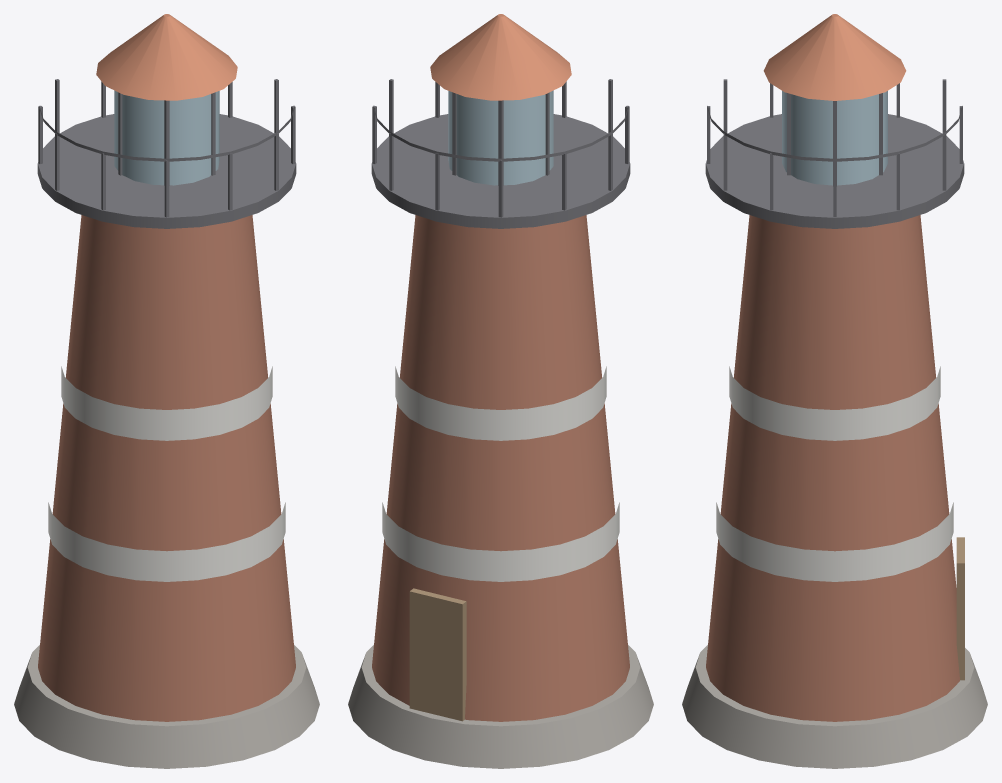
File: beacon_tower.glb
3 renders of one model, left to right at view 1: azimuth 30°, elevation 25°; view 2: azimuth 150°, elevation 25°; view 3: azimuth 270°, elevation 25°, orthographic.
Parts seen in each view (by area): view 1: Beacon; view 2: Beacon; view 3: Beacon.
Boxes of the visible parts, x1=… form: Beacon: x1=14, y1=14, x2=319, y2=768; Beacon: x1=348, y1=14, x2=653, y2=768; Beacon: x1=682, y1=14, x2=987, y2=768.
Bounding box in the file's own units: 4.5 × 11.18 × 4.5.
